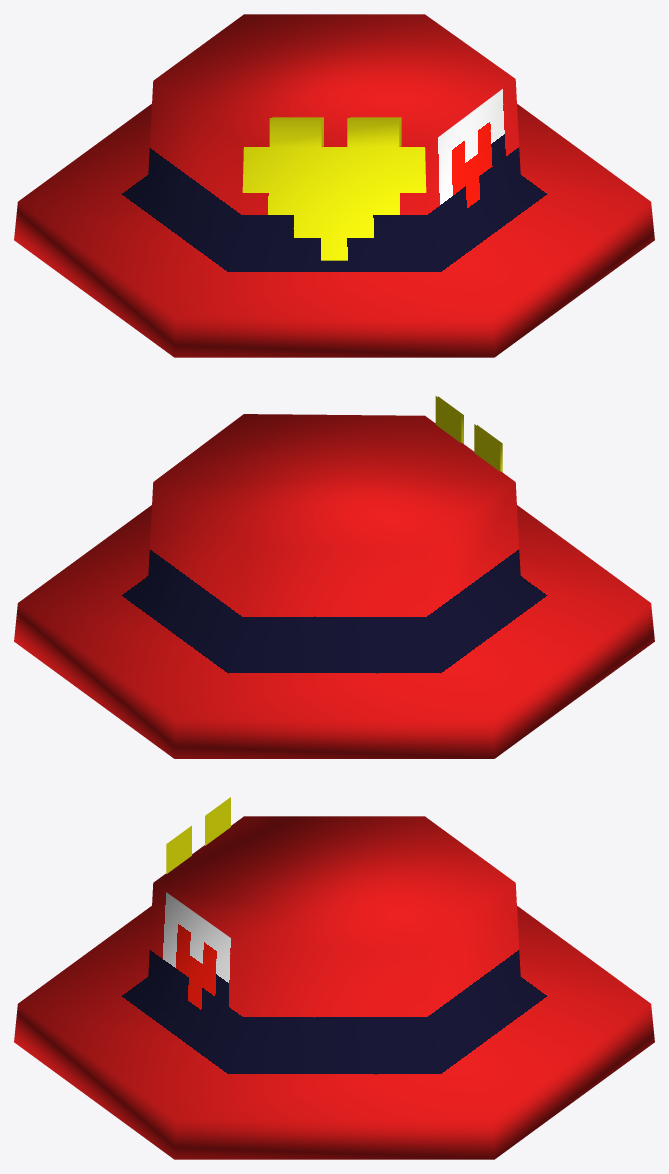
File: AceHat.fbx
3 views of the same model, one above another, from view 1: azimuth 30°, elevation 25°; view 2: azimuth 150°, elevation 25°; view 3: azimuth 270°, elevation 25° (orthographic).
Visible parts, largest first — view 1: Ace_Hat; view 2: Ace_Hat; view 3: Ace_Hat.
Boxes of the visible parts, <box> form: Ace_Hat: <box>14,14,654,357</box>; Ace_Hat: <box>14,396,654,758</box>; Ace_Hat: <box>14,797,654,1159</box>.
Bounding box in the file's own units: 1732 × 649 × 2000.
Materials: 1 (1 with a texture image).
